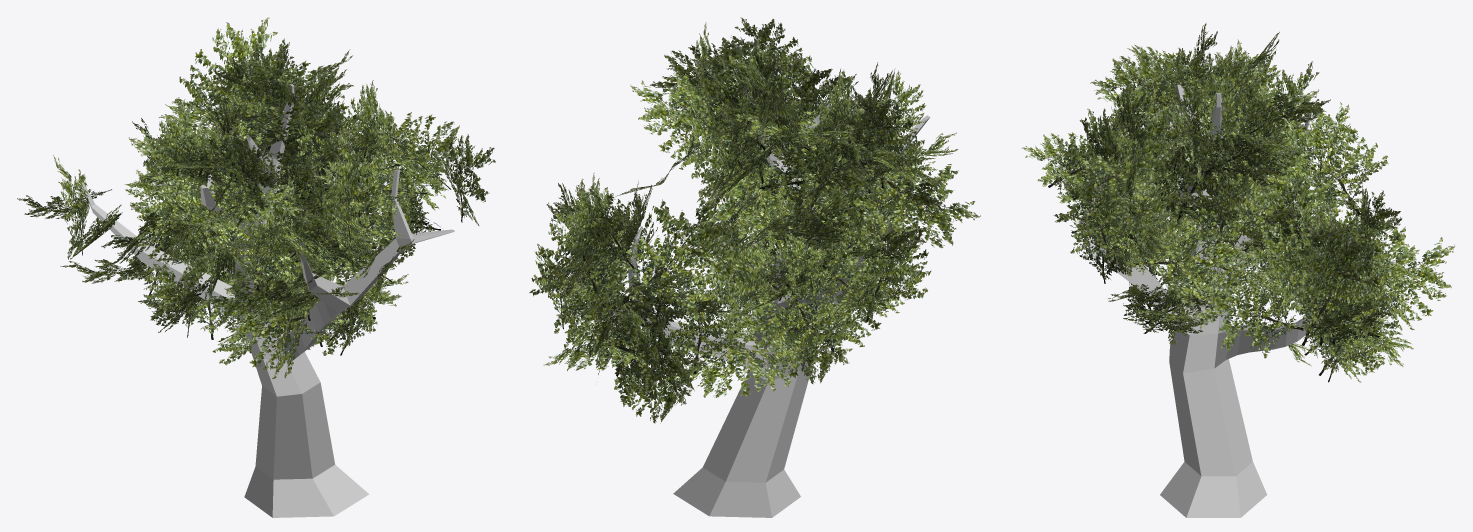
The model's file is tree 1 (2).fbx.
3 views of the same model, side by side, from view 1: azimuth 30°, elevation 25°; view 2: azimuth 150°, elevation 25°; view 3: azimuth 270°, elevation 25° (orthographic). The views are drawn at different scales.
Visible parts, largest first — view 1: Cube, Cube|TexturesCom_Branches0018_1_masked_S.001|Dupli|92, Cube|TexturesCom_Branches0018_1_masked_S.001|Dupli|32, Cube|TexturesCom_Branches0018_1_masked_S.001|Dupli|77, Cube|TexturesCom_Branches0018_1_masked_S.001|Dupli|91, Cube|TexturesCom_Branches0018_1_masked_S.001|Dupli|54, Cube|TexturesCom_Branches0018_1_masked_S.001|Dupli|83, Cube|TexturesCom_Branches0018_1_masked_S.001|Dupli|106, Cube|TexturesCom_Branches0018_1_masked_S.001|Dupli|14, Cube|TexturesCom_Branches0018_1_masked_S.001|Dupli|51, Cube|TexturesCom_Branches0018_1_masked_S.001|Dupli|2, Cube|TexturesCom_Branches0018_1_masked_S.001|Dupli|81 (+46 smaller); view 2: Cube, Cube|TexturesCom_Branches0018_1_masked_S.001|Dupli|66, Cube|TexturesCom_Branches0018_1_masked_S.001|Dupli|102, Cube|TexturesCom_Branches0018_1_masked_S.001|Dupli|65, Cube|TexturesCom_Branches0018_1_masked_S.001|Dupli|24, Cube|TexturesCom_Branches0018_1_masked_S.001|Dupli|118, Cube|TexturesCom_Branches0018_1_masked_S.001|Dupli|94, Cube|TexturesCom_Branches0018_1_masked_S.001|Dupli|69, Cube|TexturesCom_Branches0018_1_masked_S.001|Dupli|36, Cube|TexturesCom_Branches0018_1_masked_S.001|Dupli|5, Cube|TexturesCom_Branches0018_1_masked_S.001|Dupli|27, Cube|TexturesCom_Branches0018_1_masked_S.001|Dupli|117 (+59 smaller); view 3: Cube, Cube|TexturesCom_Branches0018_1_masked_S.001|Dupli|122, Cube|TexturesCom_Branches0018_1_masked_S.001|Dupli|62, Cube|TexturesCom_Branches0018_1_masked_S.001|Dupli|130, Cube|TexturesCom_Branches0018_1_masked_S.001|Dupli|29, Cube|TexturesCom_Branches0018_1_masked_S.001|Dupli|75, Cube|TexturesCom_Branches0018_1_masked_S.001|Dupli|81, Cube|TexturesCom_Branches0018_1_masked_S.001|Dupli|88, Cube|TexturesCom_Branches0018_1_masked_S.001|Dupli|69, Cube|TexturesCom_Branches0018_1_masked_S.001|Dupli|6, Cube|TexturesCom_Branches0018_1_masked_S.001|Dupli|36, Cube|TexturesCom_Branches0018_1_masked_S.001|Dupli|13 (+52 smaller).
Part boxes in pixels (box(x1,y1,x2,y2)): Cube: box(82, 84, 454, 517); Cube|TexturesCom_Branches0018_1_masked_S.001|Dupli|92: box(175, 17, 293, 147); Cube|TexturesCom_Branches0018_1_masked_S.001|Dupli|32: box(217, 272, 312, 378); Cube|TexturesCom_Branches0018_1_masked_S.001|Dupli|77: box(362, 112, 465, 195); Cube|TexturesCom_Branches0018_1_masked_S.001|Dupli|91: box(240, 105, 365, 173); Cube|TexturesCom_Branches0018_1_masked_S.001|Dupli|54: box(197, 249, 295, 328); Cube|TexturesCom_Branches0018_1_masked_S.001|Dupli|83: box(320, 127, 386, 251); Cube|TexturesCom_Branches0018_1_masked_S.001|Dupli|106: box(159, 172, 259, 232); Cube|TexturesCom_Branches0018_1_masked_S.001|Dupli|14: box(139, 99, 209, 193); Cube|TexturesCom_Branches0018_1_masked_S.001|Dupli|51: box(204, 198, 297, 291); Cube|TexturesCom_Branches0018_1_masked_S.001|Dupli|2: box(144, 256, 224, 332); Cube|TexturesCom_Branches0018_1_masked_S.001|Dupli|81: box(440, 134, 495, 225); Cube: box(596, 80, 930, 517); Cube|TexturesCom_Branches0018_1_masked_S.001|Dupli|66: box(619, 189, 740, 321); Cube|TexturesCom_Branches0018_1_masked_S.001|Dupli|102: box(858, 144, 980, 248); Cube|TexturesCom_Branches0018_1_masked_S.001|Dupli|65: box(585, 306, 694, 408); Cube|TexturesCom_Branches0018_1_masked_S.001|Dupli|24: box(760, 283, 858, 384); Cube|TexturesCom_Branches0018_1_masked_S.001|Dupli|118: box(841, 223, 931, 322); Cube|TexturesCom_Branches0018_1_masked_S.001|Dupli|94: box(758, 135, 880, 228); Cube|TexturesCom_Branches0018_1_masked_S.001|Dupli|69: box(554, 250, 636, 357); Cube|TexturesCom_Branches0018_1_masked_S.001|Dupli|36: box(630, 72, 730, 178); Cube|TexturesCom_Branches0018_1_masked_S.001|Dupli|5: box(668, 317, 792, 397); Cube|TexturesCom_Branches0018_1_masked_S.001|Dupli|27: box(759, 167, 871, 259); Cube|TexturesCom_Branches0018_1_masked_S.001|Dupli|117: box(816, 256, 889, 325); Cube: box(1078, 66, 1346, 517); Cube|TexturesCom_Branches0018_1_masked_S.001|Dupli|122: box(1279, 113, 1388, 215); Cube|TexturesCom_Branches0018_1_masked_S.001|Dupli|62: box(1282, 217, 1383, 345); Cube|TexturesCom_Branches0018_1_masked_S.001|Dupli|130: box(1191, 266, 1303, 358); Cube|TexturesCom_Branches0018_1_masked_S.001|Dupli|29: box(1124, 214, 1251, 305); Cube|TexturesCom_Branches0018_1_masked_S.001|Dupli|75: box(1072, 108, 1176, 211); Cube|TexturesCom_Branches0018_1_masked_S.001|Dupli|81: box(1053, 174, 1145, 268); Cube|TexturesCom_Branches0018_1_masked_S.001|Dupli|88: box(1158, 120, 1245, 224); Cube|TexturesCom_Branches0018_1_masked_S.001|Dupli|69: box(1353, 226, 1455, 330); Cube|TexturesCom_Branches0018_1_masked_S.001|Dupli|6: box(1179, 144, 1283, 261); Cube|TexturesCom_Branches0018_1_masked_S.001|Dupli|36: box(1199, 127, 1295, 186); Cube|TexturesCom_Branches0018_1_masked_S.001|Dupli|13: box(1205, 127, 1316, 220).
Size of the model in its own units: 392 by 467 by 418.
